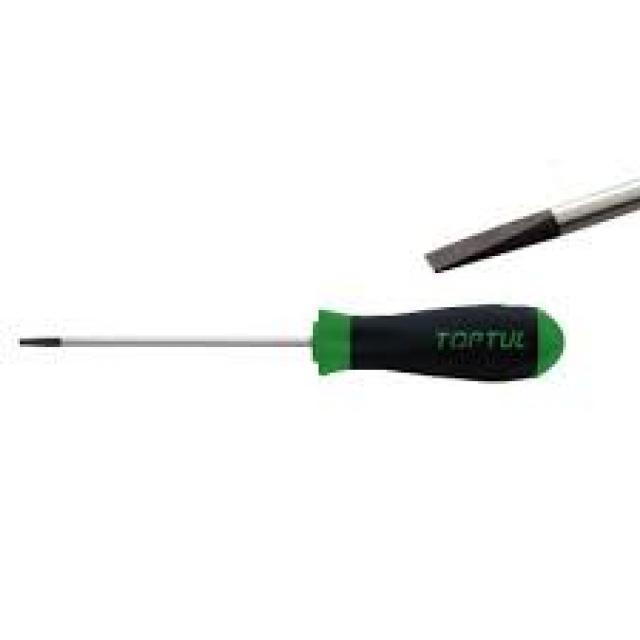screwdriver: (16, 293, 576, 387)
